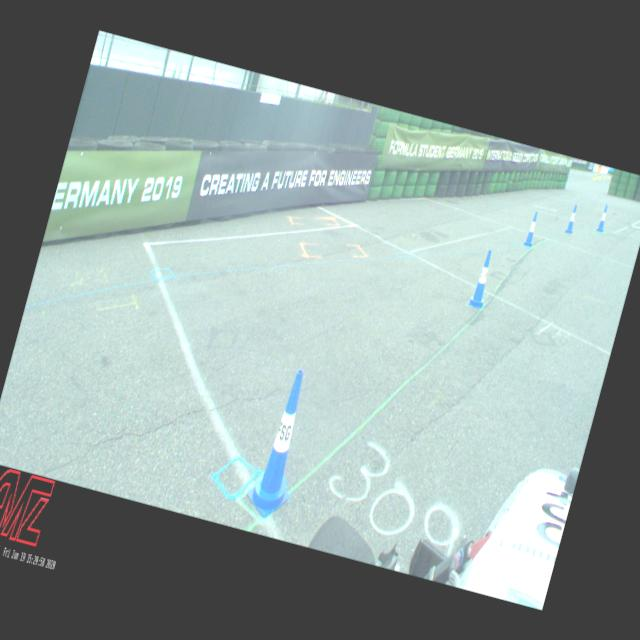blue_cone: (242, 364, 322, 520), (466, 248, 498, 310), (522, 210, 540, 247), (563, 202, 580, 235), (595, 202, 610, 232)
